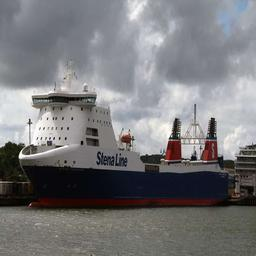Ship: (17, 136, 238, 209)
